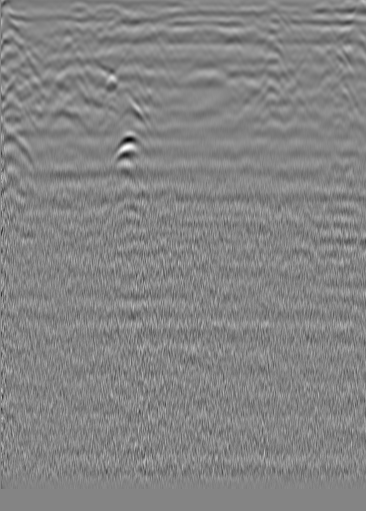가스: (109, 128, 153, 167)
상수: (33, 38, 53, 58)
오수: (316, 20, 336, 40)
우수: (160, 28, 180, 48)
